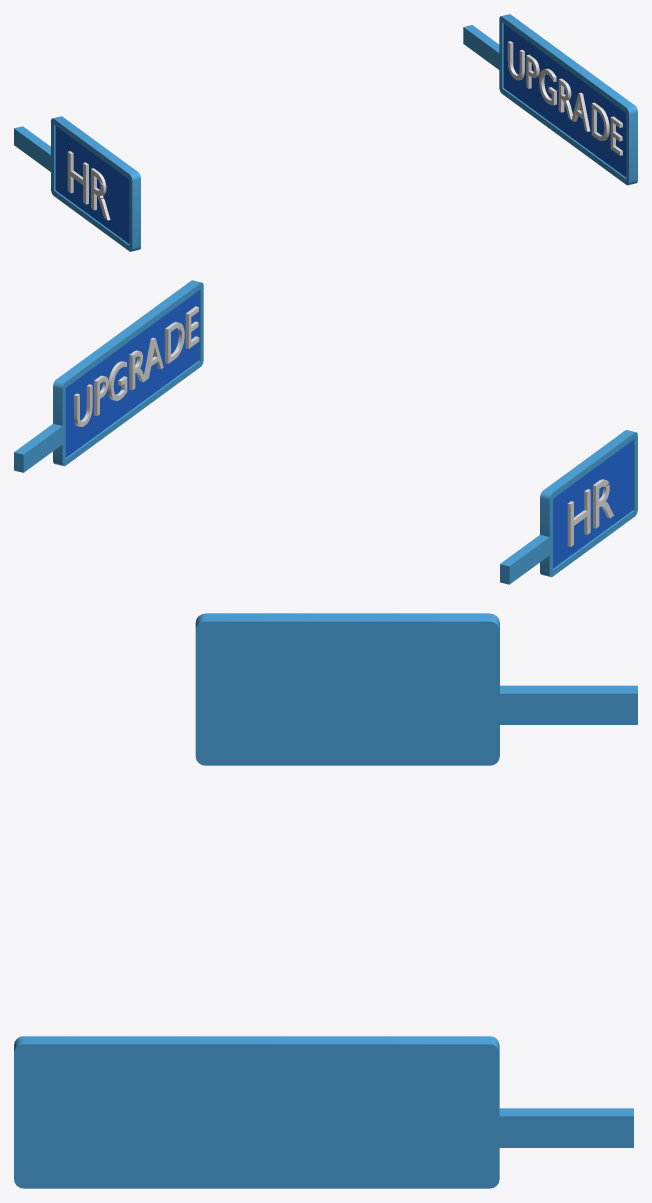
The model's file is NAMEPLATE.fbx.
3 renders of one model, top to bottom at view 1: azimuth 30°, elevation 25°; view 2: azimuth 150°, elevation 25°; view 3: azimuth 270°, elevation 25°, orthographic. The views are drawn at different scales.
Visible parts, largest first — view 1: NAMEPLATE.001, NAMEPLATE; view 2: NAMEPLATE.001, NAMEPLATE; view 3: NAMEPLATE.001, NAMEPLATE.
Boxes of the visible parts, x1,y1,x2,y2 form: NAMEPLATE.001: (463, 14, 637, 185); NAMEPLATE: (14, 116, 140, 251); NAMEPLATE.001: (14, 280, 203, 472); NAMEPLATE: (500, 430, 637, 584); NAMEPLATE.001: (14, 1036, 633, 1188); NAMEPLATE: (195, 613, 637, 765).
Bounding box in the file's own units: 14.37 × 2.53 × 9.06.
